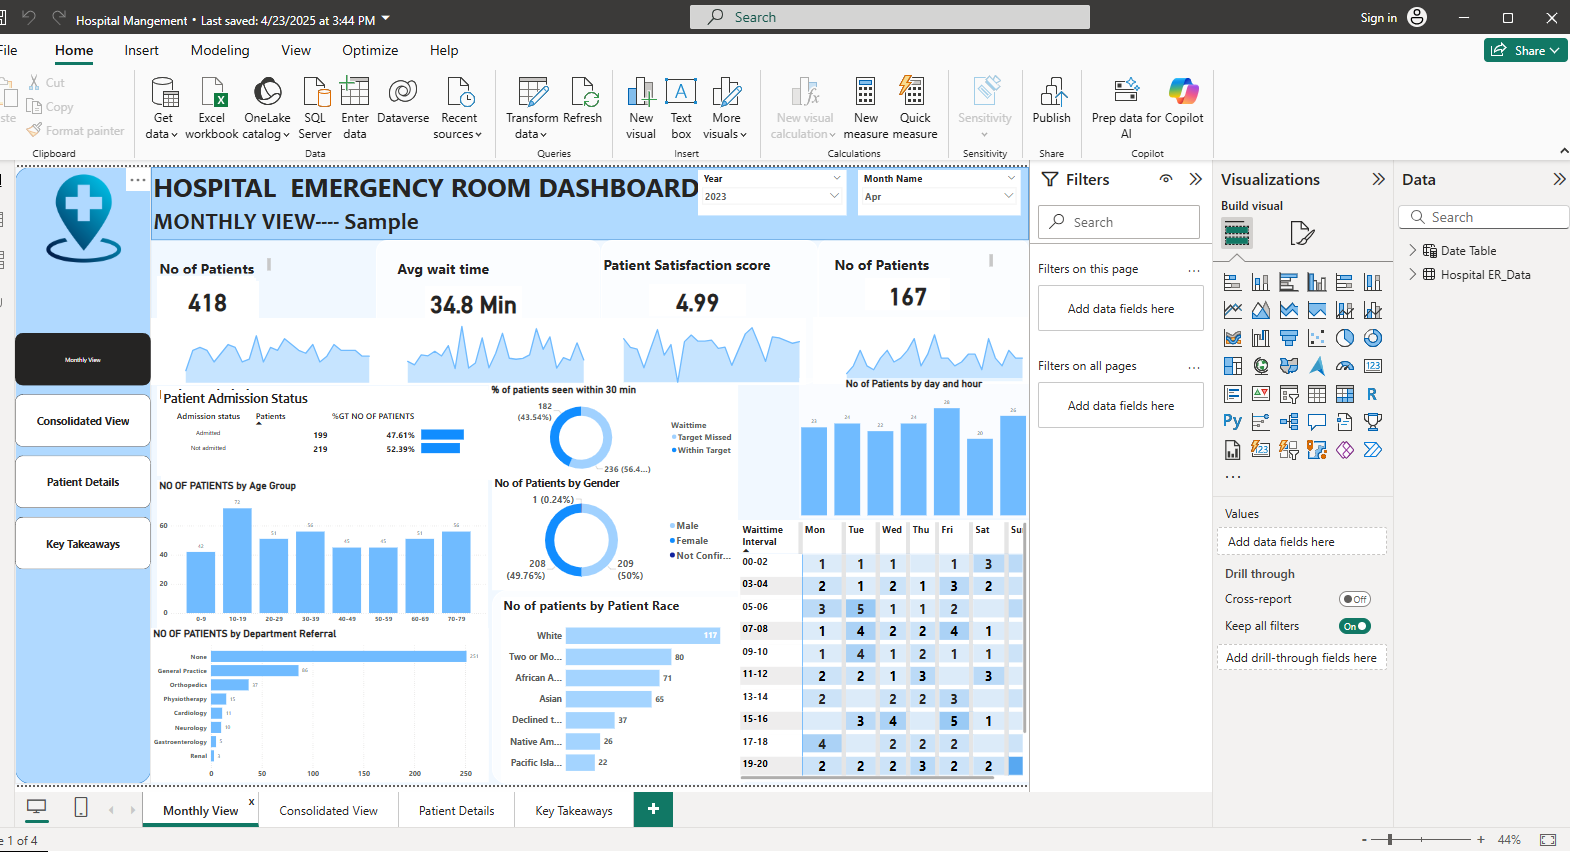

The page's visual inventory and layout, read from the dashboard file:
{"tool":"powerbi","page":{"name":"Monthly View","canvas":[2300,1400],"ordinal":0},"visuals":[{"type":"shape","box":[1821.4,163.3,478.6,326.6],"z":0},{"type":"shape","box":[323,496,630,177],"z":1000},{"type":"donutChart","title":"Gender","fields":{"Series":["Hospital ER_Data.Patient Gender"]},"box":[1082,710,558,249.5],"z":2000},{"type":"shape","box":[1082,959.5,594.3,440],"z":4000},{"type":"shape","box":[0,0,309.4,1399.4],"z":4500},{"type":"shape","box":[308.5,0,1991.5,166],"z":5000},{"type":"textbox","box":[309.4,0,1316.3,103.9],"z":6000},{"type":"textbox","box":[308.5,83.9,793.9,81.7],"z":7000},{"type":"card","fields":{"Values":["Hospital ER_Data.NO OF PATIENTS"]},"box":[322.6,247.8,219.7,116.9],"z":8000},{"type":"slicer","fields":{"Values":["Date Table.Year"]},"box":[1549.7,7,336.6,102.8],"z":9000},{"type":"slicer","fields":{"Values":["Date Table.Month Name"]},"box":[1912,7,369.3,102.8],"z":10000},{"type":"textbox","box":[322.1,201.9,263.1,45.4],"z":11000},{"type":"areaChart","fields":{"Category":["Date Table.Date.Variation.Date Hierarchy.Day"],"Y":["Hospital ER_Data.NO OF PATIENTS"]},"box":[308.5,342.5,510.4,152],"z":12000},{"type":"shape","box":[818.1,166,509.6,327.2],"z":13000},{"type":"card","fields":{"Values":["Hospital ER_Data.Avg Wait time"]},"box":[930,269.9,220,72.6],"z":14000},{"type":"card","fields":{"Values":["Hospital ER_Data.NO OF PATIENTS"]},"box":[332.6,257.8,219.7,116.9],"z":15000},{"type":"card","fields":{"Values":["Hospital ER_Data.NO OF PATIENTS"]},"box":[326.6,251.8,220,97.5],"z":16000},{"type":"areaChart","fields":{"Category":["Date Table.Date.Variation.Date Hierarchy.Day"],"Y":["Avg(Hospital ER_Data.Patient Waittime)"]},"box":[813.4,343.6,490.9,151.9],"z":17000},{"type":"textbox","box":[1853.2,192.8,369.7,59],"z":18000},{"type":"textbox","box":[584.3,247.8,9.3,9.3],"z":19000},{"type":"shape","box":[1329.2,165.6,492.2,326.6],"z":20000},{"type":"areaChart","fields":{"Category":["Date Table.Date.Variation.Date Hierarchy.Day"],"Y":["Hospital ER_Data.Satifaction Score"]},"box":[1304.2,342.5,489.9,152],"z":21000},{"type":"areaChart","fields":{"Category":["Date Table.Date.Variation.Date Hierarchy.Day"],"Y":["Hospital ER_Data.No of Patient Referred"]},"box":[1810.1,340.2,489.9,152],"z":22000},{"type":"card","fields":{"Values":["Hospital ER_Data.Satifaction Score"]},"box":[1438.1,265.4,220,72.6],"z":23000},{"type":"textbox","box":[1329.2,192.8,412.8,72.6],"z":24000},{"type":"textbox","box":[861.9,201.9,269.9,56.7],"z":25000},{"type":"card","fields":{"Values":["Hospital ER_Data.No of Patient Referred"]},"box":[1928,251.8,192.8,72.6],"z":26000},{"type":"pivotTable","title":"Patient Admission Status ","fields":{"Rows":["Hospital ER_Data.Admission status"],"Values":["Hospital ER_Data.NO OF PATIENTS1","Hospital ER_Data.NO OF PATIENTS"]},"box":[321.9,495.7,751.8,204.4],"z":27000},{"type":"barChart","fields":{"Category":["Hospital ER_Data.Admission status"],"Y":["Hospital ER_Data.NO OF PATIENTS"]},"box":[951.5,533.3,122.2,138.6],"z":28000},{"type":"shape","box":[307.8,1045.5,765.9,350.1],"z":29000},{"type":"clusteredColumnChart","fields":{"Category":["Hospital ER_Data.Age Group"],"Y":["Hospital ER_Data.NO OF PATIENTS"]},"box":[322.1,710,750.8,335.7],"z":30000},{"type":"clusteredBarChart","fields":{"Y":["Hospital ER_Data.NO OF PATIENTS"],"Category":["Hospital ER_Data.Department Referral"]},"box":[307.8,1045.5,765.9,350.1],"z":31000},{"type":"pivotTable","title":"Patient Admission Status ","fields":{"Rows":["Hospital ER_Data.Admission status"],"Values":["Hospital ER_Data.NO OF PATIENTS1","Hospital ER_Data.NO OF PATIENTS"]},"box":[331.2,505.8,744,204.1],"z":32000},{"type":"shape","box":[1082,492.2,558,217.8],"z":33000},{"type":"donutChart","title":"% of patients seen within 30 min","fields":{"Category":["Hospital ER_Data.Waittime"],"Y":["Hospital ER_Data.NO OF PATIENTS"]},"box":[1075.1,492.2,564.8,217.8],"z":34000},{"type":"clusteredBarChart","fields":{"Category":["Hospital ER_Data.Admission status"],"Y":["Hospital ER_Data.NO OF PATIENTS"]},"box":[916.4,567.1,142.9,104.3],"z":35000},{"type":"donutChart","title":"No of Patients by Gender","fields":{"Category":["Hospital ER_Data.Patient Gender"],"Y":["Hospital ER_Data.NO OF PATIENTS"]},"box":[1082,700.9,576.1,258.6],"z":36000},{"type":"clusteredBarChart","title":"No of patients  by Patient Race","fields":{"Y":["Hospital ER_Data.NO OF PATIENTS"],"Category":["Hospital ER_Data.Patient Race"]},"box":[1102.4,975.3,537.6,419.6],"z":37000},{"type":"columnChart","title":"No of Patients by day and hour","fields":{"Category":["Date Table.Day Name"],"Y":["Hospital ER_Data.No of Patient Referred"]},"box":[1778.3,478.6,521.7,317.6],"z":38000},{"type":"pivotTable","fields":{"Rows":["Hospital ER_Data.Waittime Interval"],"Columns":["Date Table.Day Name"],"Values":["Hospital ER_Data.No of Patient Referred"]},"box":[1639.9,800.7,660.1,594.3],"z":39000},{"type":"pageNavigator","box":[0,376.5,308.5,539.8],"z":40000},{"type":"image","box":[4.5,11.3,303.9,210.9],"z":41000}]}

Visuals, with their boxes on the page's 2300x1400 design canvas (x1, y1, x2, y2). These are canvas units, not pixel positions in the 1570x852 screenshot, which may show the page scaled, cropped or inside an application window:
shape: region(1821, 163, 2300, 490)
shape: region(323, 496, 953, 673)
"Gender" donutChart: region(1082, 710, 1640, 960)
shape: region(1082, 960, 1676, 1400)
shape: region(0, 0, 309, 1399)
shape: region(308, 0, 2300, 166)
textbox: region(309, 0, 1626, 104)
textbox: region(308, 84, 1102, 166)
card - Hospital ER_Data.NO OF PATIENTS: region(323, 248, 542, 365)
slicer - Date Table.Year: region(1550, 7, 1886, 110)
slicer - Date Table.Month Name: region(1912, 7, 2281, 110)
textbox: region(322, 202, 585, 247)
areaChart - Date Table.Date.Variation.Date Hierarchy.Day x Hospital ER_Data.NO OF PATIENTS: region(308, 342, 819, 494)
shape: region(818, 166, 1328, 493)
card - Hospital ER_Data.Avg Wait time: region(930, 270, 1150, 342)
card - Hospital ER_Data.NO OF PATIENTS: region(333, 258, 552, 375)
card - Hospital ER_Data.NO OF PATIENTS: region(327, 252, 547, 349)
areaChart - Date Table.Date.Variation.Date Hierarchy.Day x Avg(Hospital ER_Data.Patient Waittime): region(813, 344, 1304, 496)
textbox: region(1853, 193, 2223, 252)
textbox: region(584, 248, 594, 257)
shape: region(1329, 166, 1821, 492)
areaChart - Date Table.Date.Variation.Date Hierarchy.Day x Hospital ER_Data.Satifaction Score: region(1304, 342, 1794, 494)
areaChart - Date Table.Date.Variation.Date Hierarchy.Day x Hospital ER_Data.No of Patient Referred: region(1810, 340, 2300, 492)
card - Hospital ER_Data.Satifaction Score: region(1438, 265, 1658, 338)
textbox: region(1329, 193, 1742, 265)
textbox: region(862, 202, 1132, 259)
card - Hospital ER_Data.No of Patient Referred: region(1928, 252, 2121, 324)
"Patient Admission Status " pivotTable: region(322, 496, 1074, 700)
barChart - Hospital ER_Data.Admission status x Hospital ER_Data.NO OF PATIENTS: region(952, 533, 1074, 672)
shape: region(308, 1046, 1074, 1396)
clusteredColumnChart - Hospital ER_Data.Age Group x Hospital ER_Data.NO OF PATIENTS: region(322, 710, 1073, 1046)
clusteredBarChart - Hospital ER_Data.NO OF PATIENTS x Hospital ER_Data.Department Referral: region(308, 1046, 1074, 1396)
"Patient Admission Status " pivotTable: region(331, 506, 1075, 710)
shape: region(1082, 492, 1640, 710)
"% of patients seen within 30 min" donutChart: region(1075, 492, 1640, 710)
clusteredBarChart - Hospital ER_Data.Admission status x Hospital ER_Data.NO OF PATIENTS: region(916, 567, 1059, 671)
"No of Patients by Gender" donutChart: region(1082, 701, 1658, 960)
"No of patients  by Patient Race" clusteredBarChart: region(1102, 975, 1640, 1395)
"No of Patients by day and hour" columnChart: region(1778, 479, 2300, 796)
pivotTable - Hospital ER_Data.Waittime Interval x Date Table.Day Name: region(1640, 801, 2300, 1395)
pageNavigator: region(0, 376, 308, 916)
image: region(4, 11, 308, 222)
